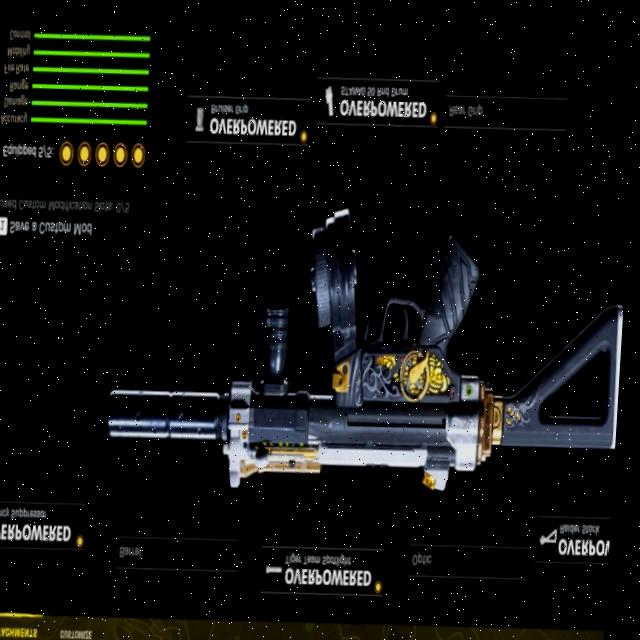firearm: (103, 186, 632, 507)
